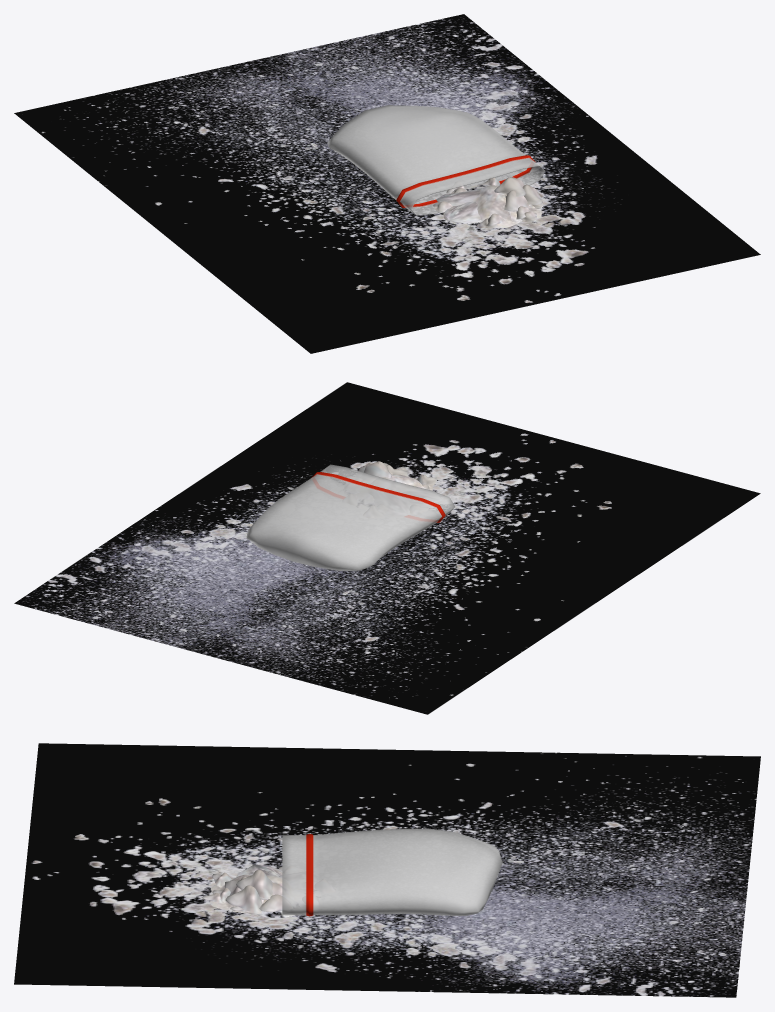
Rendered from Sabu-sabu.fbx.
3 views of the same model, one above another, from view 1: azimuth 30°, elevation 25°; view 2: azimuth 150°, elevation 25°; view 3: azimuth 270°, elevation 25° (orthographic). The views are drawn at different scales.
Parts seen in each view (by area): view 1: sabu-sabu.bubuk, plastik, sabu-sabu.kristal; view 2: sabu-sabu.bubuk, plastik, sabu-sabu.kristal; view 3: sabu-sabu.bubuk, plastik, sabu-sabu.kristal.
Boxes of the visible parts, x1,y1,x2,y2 form: sabu-sabu.bubuk: (14, 14, 760, 353); plastik: (327, 105, 545, 215); sabu-sabu.kristal: (433, 177, 543, 228); sabu-sabu.bubuk: (14, 382, 760, 714); plastik: (246, 464, 455, 570); sabu-sabu.kristal: (342, 461, 441, 517); sabu-sabu.bubuk: (14, 743, 760, 997); plastik: (282, 828, 502, 916); sabu-sabu.kristal: (201, 864, 335, 917).
Size of the model in its own units: 687 by 62.47 by 853.
